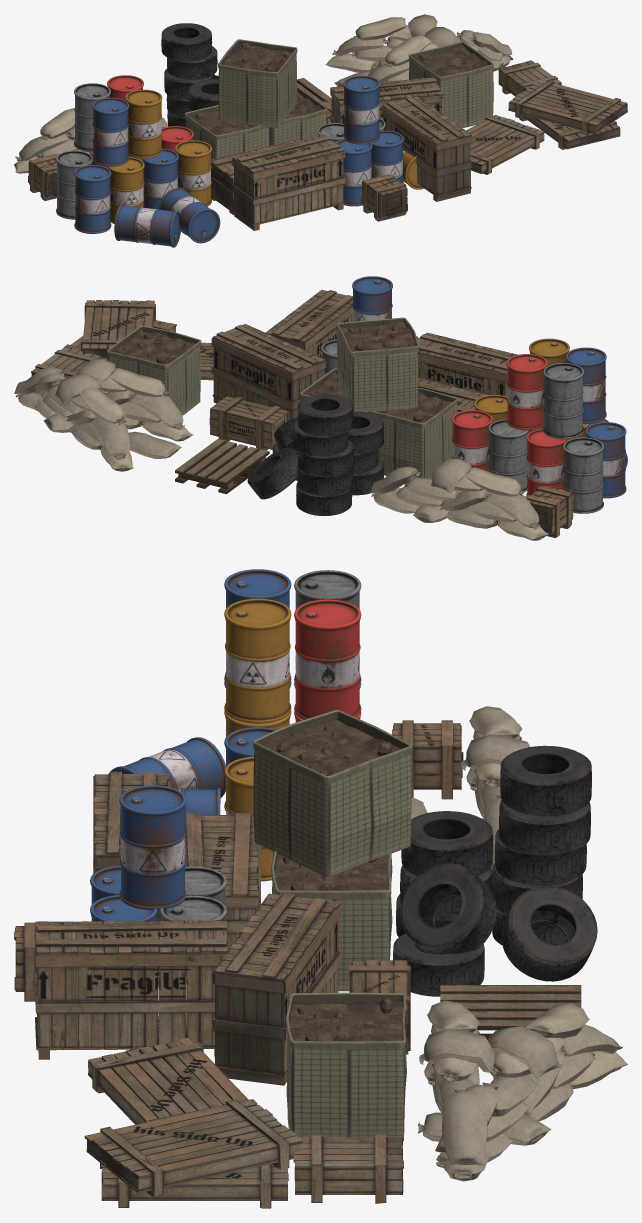
File: Garbage2.fbx
3 views of the same model, one above another, from view 1: azimuth 30°, elevation 25°; view 2: azimuth 150°, elevation 25°; view 3: azimuth 270°, elevation 25° (orthographic). The views are drawn at different scales.
Parts seen in each view (by area): view 1: Cube.100, Cube.116, Cube.117, Cube.007, Cube.113, Cube.120, opon.007, Cube.112, Cube.114, Cube.119, Cylinder.007, Cylinder.004 (+26 smaller); view 2: Cube.030, Cube.116, Cube.118, Cube.120, Cube.114, Cube.119, Cube.007, opon.007, Cube.100, Cube.117, Cube.009, Cube.081 (+24 smaller); view 3: Cube.117, Cube.116, Cube.007, Cube.118, Cube.120, Cube.113, opon.007, opon.003, Cube.119, Cube.112, Cylinder2, Cylinder.016 (+25 smaller).
Part boxes in pixels (x1,y1,x2,y2): Cube.100: (232, 135, 345, 230); Cube.116: (218, 39, 297, 127); Cube.117: (381, 96, 472, 201); Cube.007: (408, 41, 493, 128); Cube.113: (508, 79, 627, 135); Cube.120: (325, 14, 503, 72); opon.007: (161, 23, 217, 100); Cube.112: (466, 115, 544, 174); Cube.114: (184, 105, 269, 159); Cube.119: (367, 27, 512, 82); Cylinder.007: (92, 97, 129, 166); Cylinder.004: (74, 165, 111, 233); Cube.030: (369, 459, 548, 540); Cube.116: (336, 317, 418, 412); Cube.118: (211, 324, 326, 420); Cube.120: (33, 373, 133, 471); Cube.114: (366, 387, 457, 478); Cube.119: (14, 359, 193, 441); Cube.007: (107, 325, 201, 415); opon.007: (292, 394, 353, 477); Cube.100: (417, 332, 517, 396); Cube.117: (265, 290, 352, 357); Cube.009: (175, 439, 269, 494); Cube.081: (209, 396, 289, 450); Cube.117: (34, 920, 228, 1059); Cube.116: (252, 710, 412, 876); Cube.007: (285, 992, 406, 1141); Cube.118: (212, 893, 340, 1085); Cube.120: (435, 1003, 627, 1168); Cube.113: (84, 1099, 302, 1197); opon.007: (495, 745, 591, 885); opon.003: (393, 863, 496, 996); Cube.119: (418, 1000, 495, 1181); Cube.112: (88, 1037, 257, 1124); Cylinder2: (224, 598, 291, 723); Cylinder.016: (119, 785, 186, 910).
Bounding box in the file's own units: 888 × 200 × 503.
